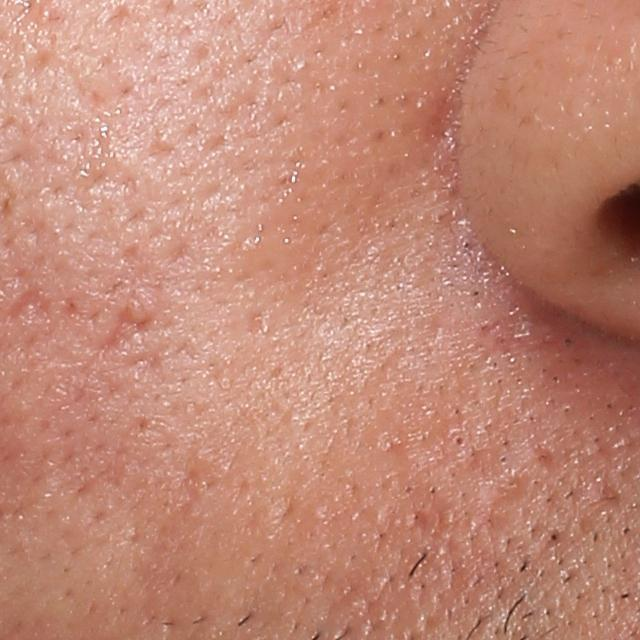atrophic_scar: (13, 45, 146, 127), (474, 474, 539, 547), (93, 0, 130, 31), (530, 428, 556, 472), (595, 473, 624, 512)
comedo: (451, 432, 469, 448)
